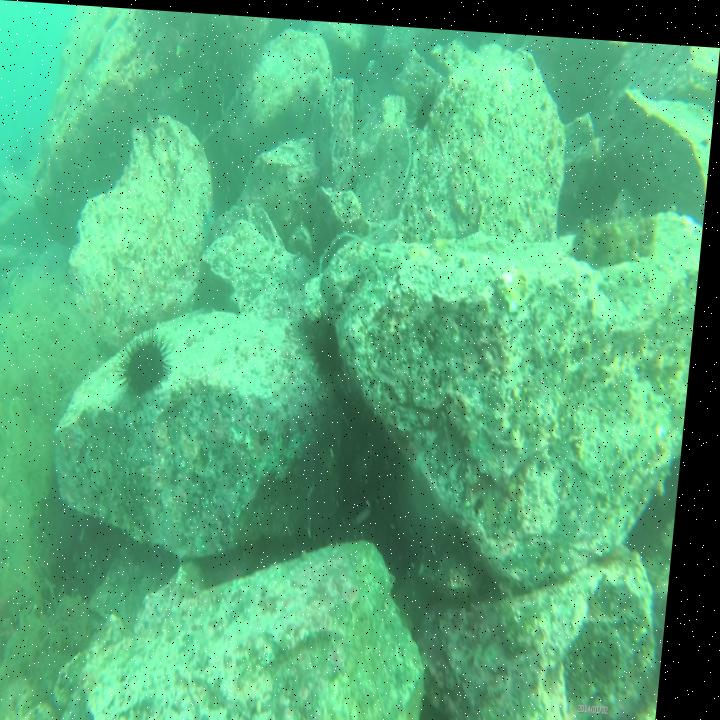echinus: (122, 322, 181, 402), (313, 307, 355, 385), (260, 172, 294, 233), (413, 78, 444, 125)
